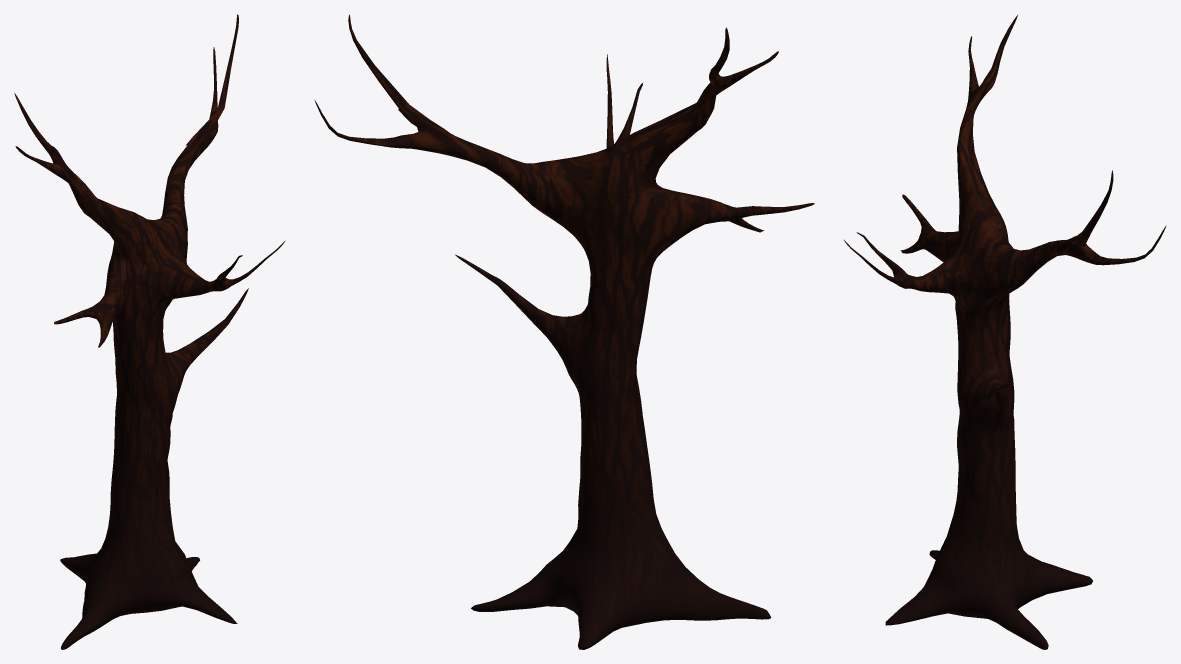
Rendered from treetrunk.fbx.
3 views of the same model, side by side, from view 1: azimuth 30°, elevation 25°; view 2: azimuth 150°, elevation 25°; view 3: azimuth 270°, elevation 25° (orthographic). The views are drawn at different scales.
Visible parts, largest first — view 1: GEO_treetrunk_a2; view 2: GEO_treetrunk_a2; view 3: GEO_treetrunk_a2.
Boxes of the visible parts, x1,y1,x2,y2 form: GEO_treetrunk_a2: (14,14,285,649); GEO_treetrunk_a2: (314,14,814,649); GEO_treetrunk_a2: (843,15,1166,649).
Bounding box in the file's own units: 2.97 × 5.11 × 2.78.
